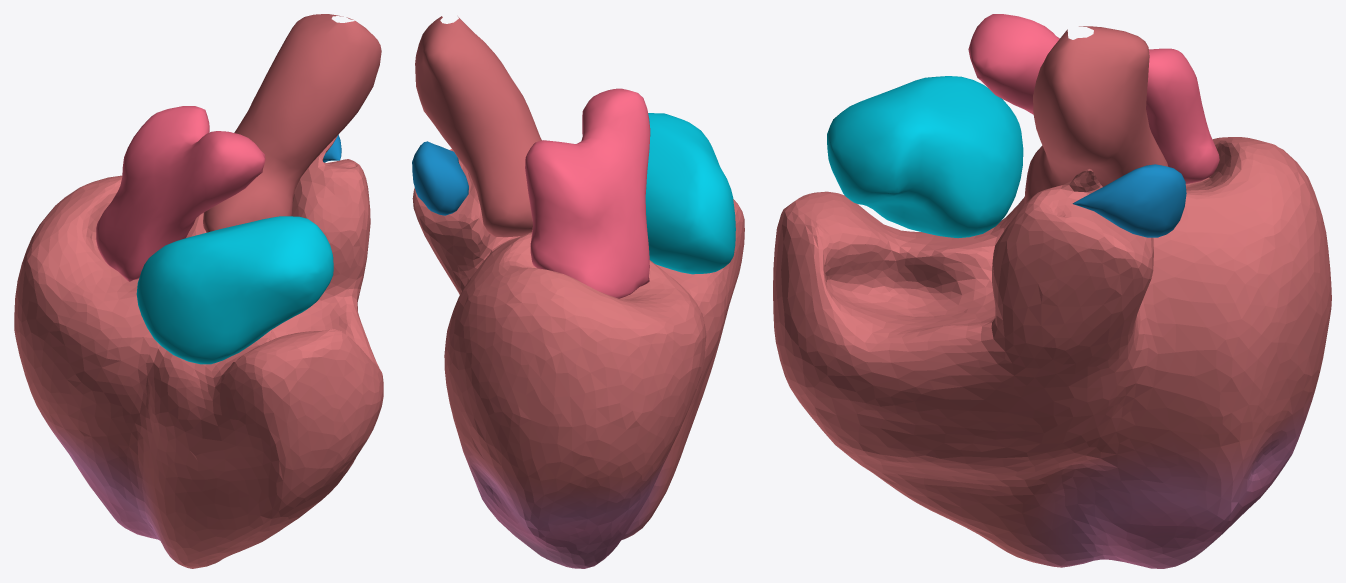
The model's file is frame_3.glb.
3 views of the same model, side by side, from view 1: azimuth 30°, elevation 25°; view 2: azimuth 150°, elevation 25°; view 3: azimuth 270°, elevation 25° (orthographic). The views are drawn at different scales.
Parts seen in each view (by area): view 1: Renderer Node; view 2: Renderer Node; view 3: Renderer Node.
Boxes of the visible parts, box(x1,y1,x2,y2) form: Renderer Node: box(14, 14, 383, 568); Renderer Node: box(412, 16, 744, 568); Renderer Node: box(773, 14, 1331, 568).
Size of the model in its own units: 102 by 158 by 126.
